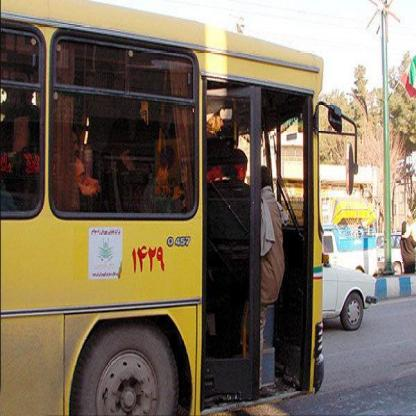Bus: (0, 15, 329, 416)
Car: (309, 252, 386, 330), (373, 211, 416, 277)
